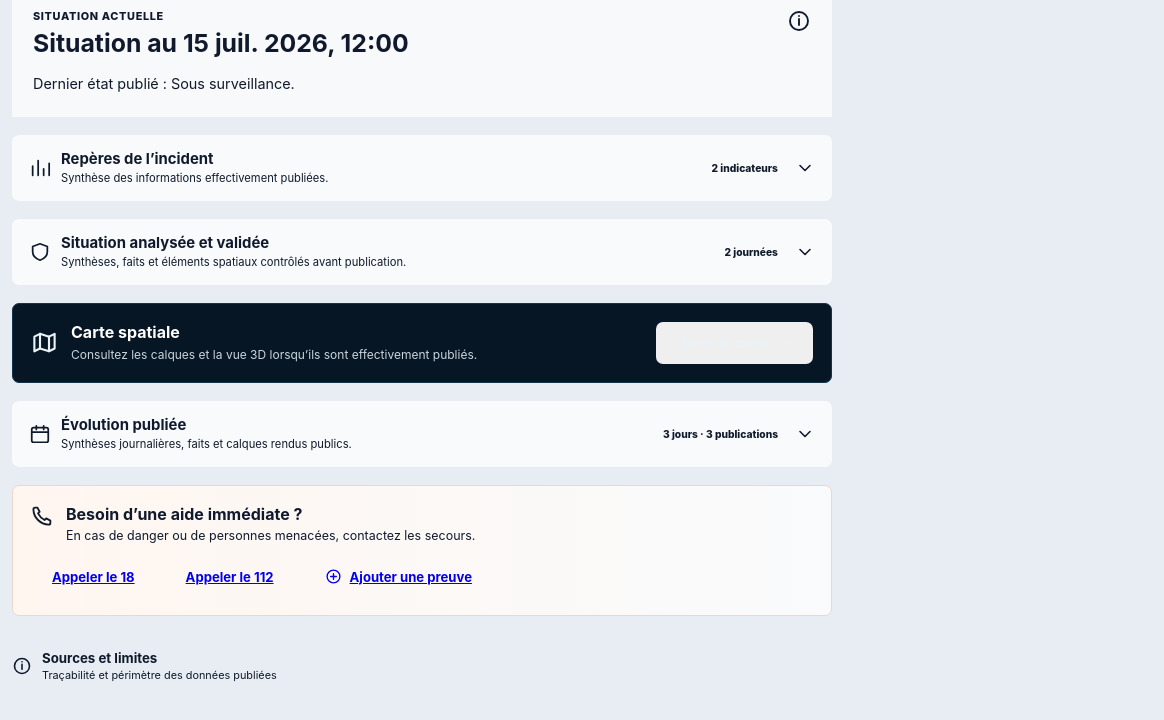
Test case: intègre les synthèses quotidiennes publiées dans la chronologie
(page scrolled)
What coordinates should you click on to do the following:
click the heading "Évolution publiée"
I would click on:
 (124, 425)
Its box is [29,416,815,451].
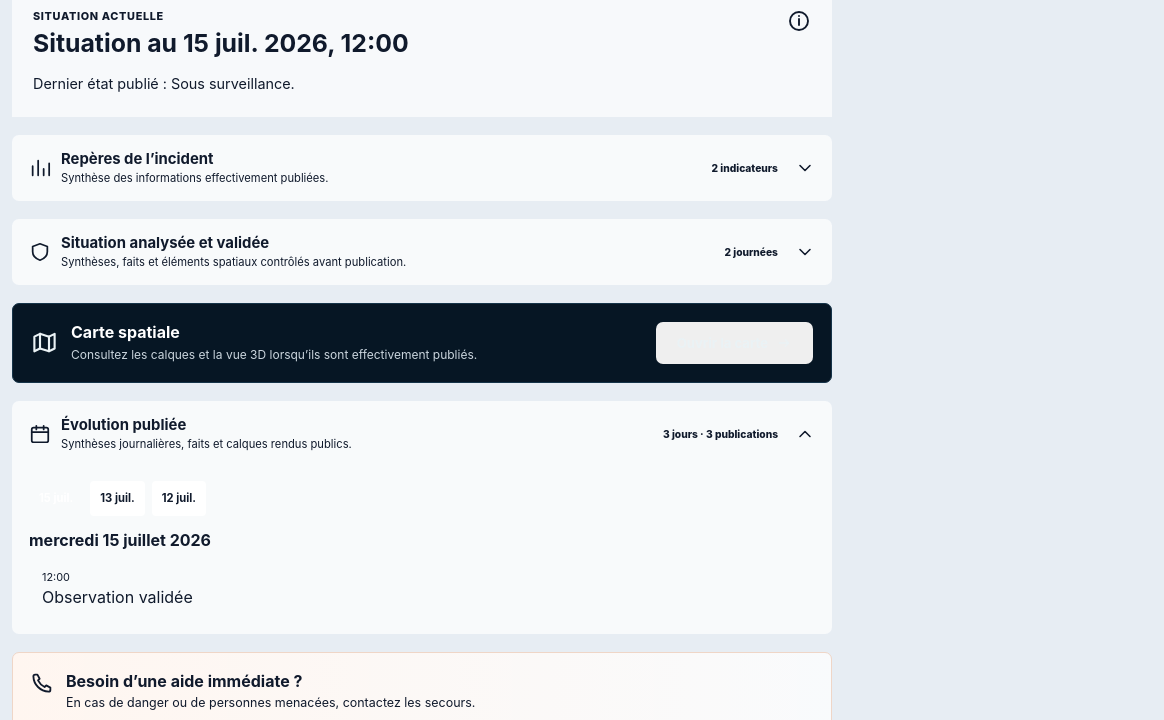
What coordinates should you click on to do the following:
click the button "13 juil."
I would click on:
 (117, 498)
Its box is [90,481,145,516].
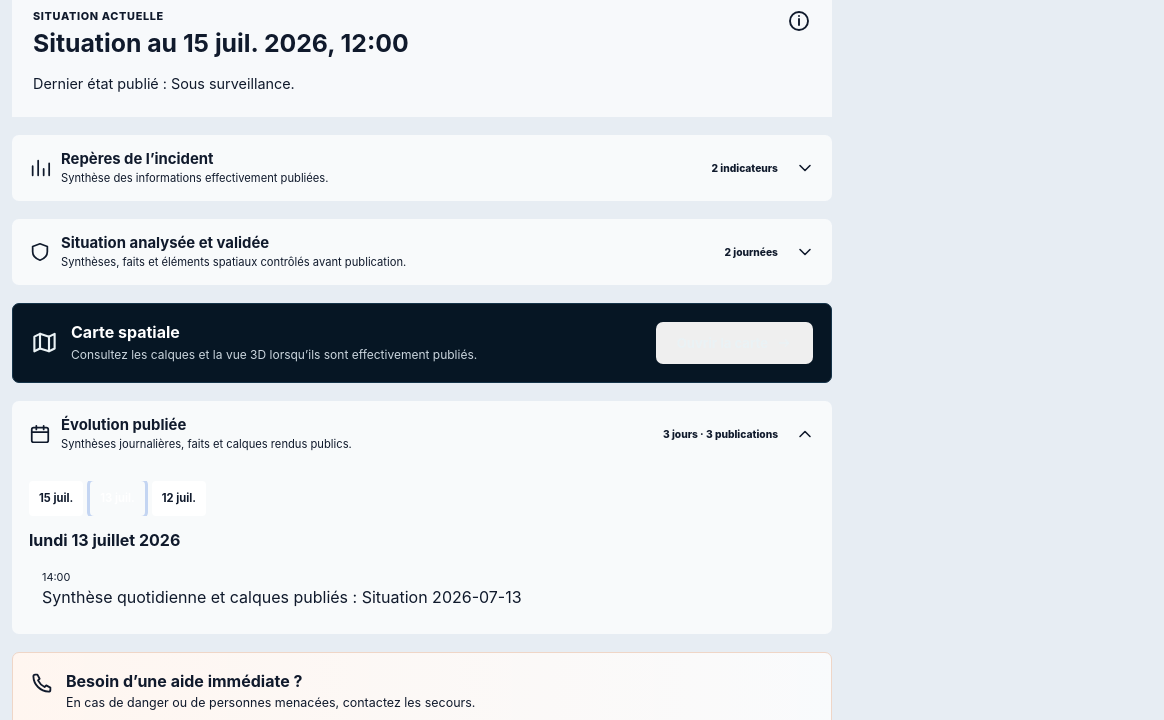
Result: the text "Synthèse quotidienne et calques publiés : Situation 2026-07-13" is shown at [42,587,522,607]
